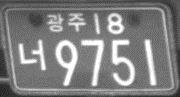1: (141, 37, 158, 86), (91, 11, 102, 36)
5: (110, 38, 136, 86)
7: (79, 38, 105, 88)
8: (106, 11, 125, 35)
9: (53, 38, 78, 87)
광주_O: (45, 11, 87, 33)
너: (18, 37, 46, 73)
